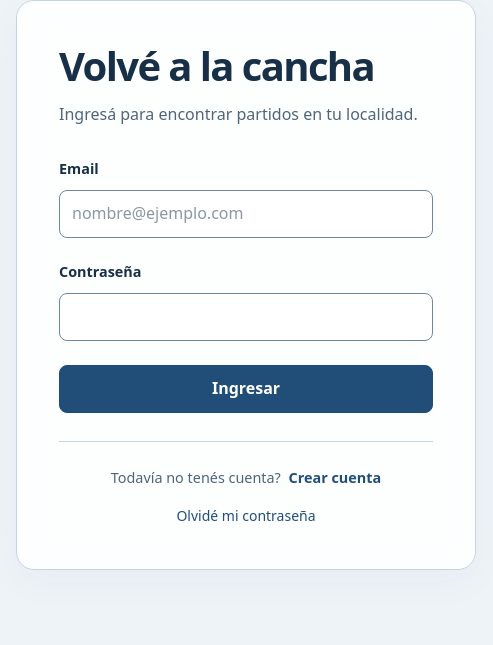
Test: login reports associated field errors without sending credentials and clears them after a corrected submission
Type "invalid-email" into the field labelled "Email".
click(246, 214); type("invalid-email")  # box [59,190,433,238]
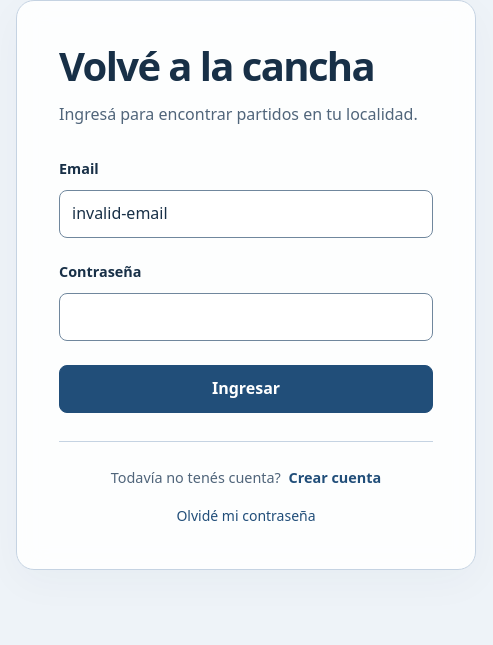
Click the button "Ingresar".
click(246, 389)  # box [59,365,433,413]
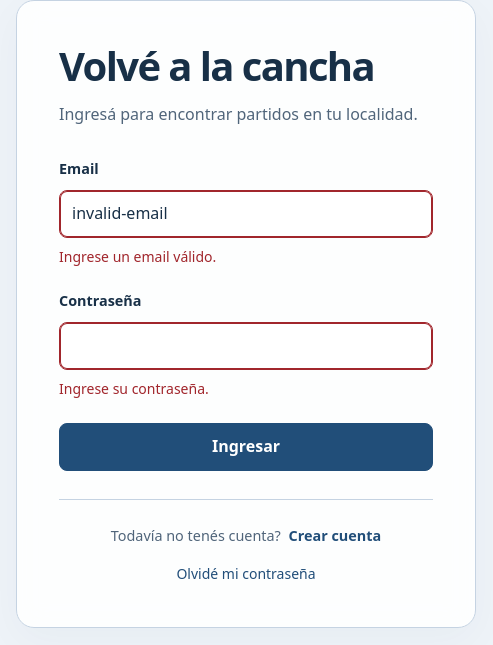
expect the text "Ingrese un email válido." is shown: met, box [59,247,216,266]
expect the text "Ingrese su contraseña." is shown: met, box [59,379,209,398]
Replace the text in the field labelled "Email" with "player@example.test" at coordinates (246, 214), box [59,190,433,238]
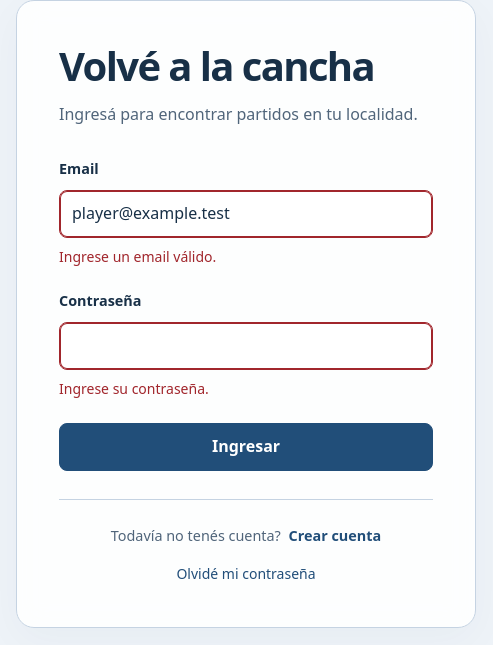
Type "Corrected login password 123!" into the password field labelled "Contraseña".
click(246, 346); type("Corrected login password 123!")  # box [59,322,433,370]
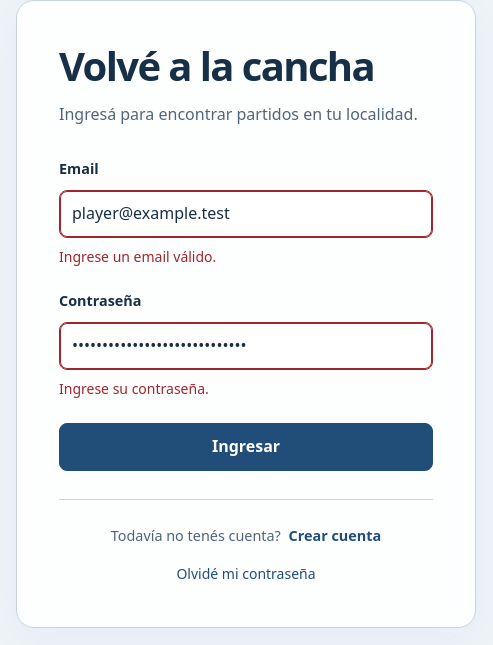
Click the button "Ingresar".
click(246, 447)  # box [59,423,433,471]
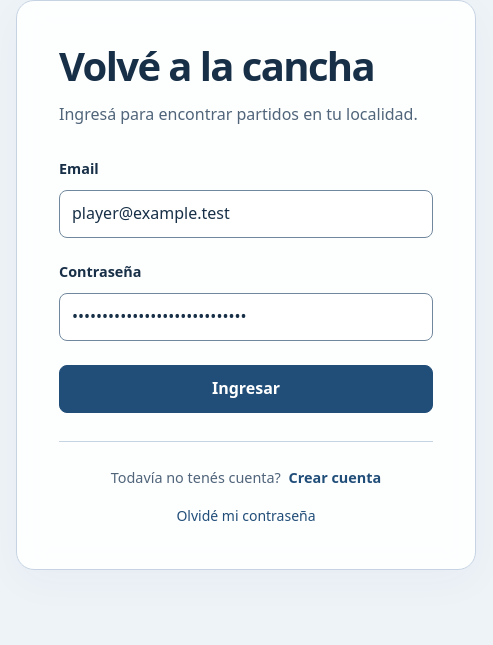
expect the text "Ingrese un email válido." is gone: met
expect the text "Ingrese su contraseña." is gone: met
